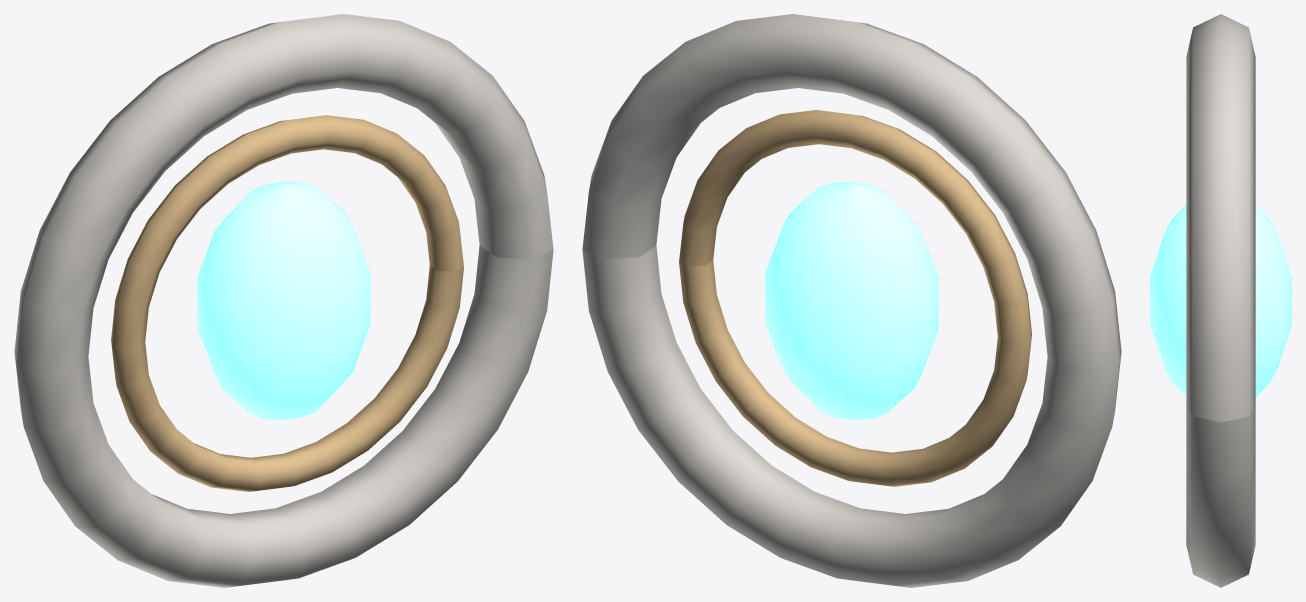
The model's file is pick_moonseal.glb.
3 views of the same model, side by side, from view 1: azimuth 30°, elevation 25°; view 2: azimuth 150°, elevation 25°; view 3: azimuth 270°, elevation 25° (orthographic). The views are drawn at different scales.
Parts seen in each view (by area): view 1: PICK_moonseal_outer, PICK_moonseal_inner, PICK_moonseal_aether; view 2: PICK_moonseal_outer, PICK_moonseal_inner, PICK_moonseal_aether; view 3: PICK_moonseal_outer, PICK_moonseal_aether.
Boxes of the visible parts, bbox=[...] form: PICK_moonseal_outer: bbox=[14, 14, 553, 587]; PICK_moonseal_inner: bbox=[111, 115, 463, 491]; PICK_moonseal_aether: bbox=[197, 181, 370, 420]; PICK_moonseal_outer: bbox=[582, 14, 1121, 587]; PICK_moonseal_inner: bbox=[679, 110, 1031, 486]; PICK_moonseal_aether: bbox=[765, 181, 938, 420]; PICK_moonseal_outer: bbox=[1186, 14, 1255, 587]; PICK_moonseal_aether: bbox=[1150, 204, 1291, 397].
Size of the model in its own units: 0.868 by 0.868 by 0.2145.
